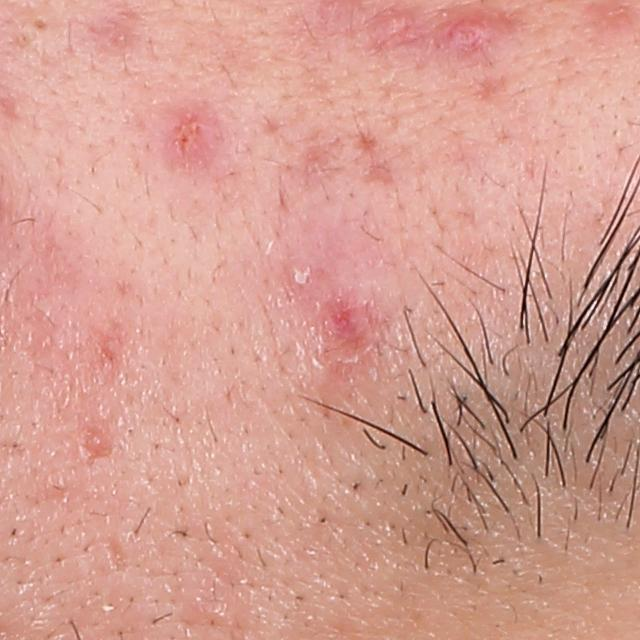atrophic_scar: (350, 132, 393, 184), (104, 531, 130, 576)
comedo: (30, 14, 49, 33)
papule: (432, 4, 508, 71), (152, 107, 220, 167), (370, 11, 414, 46)
pustule: (283, 263, 318, 291)
